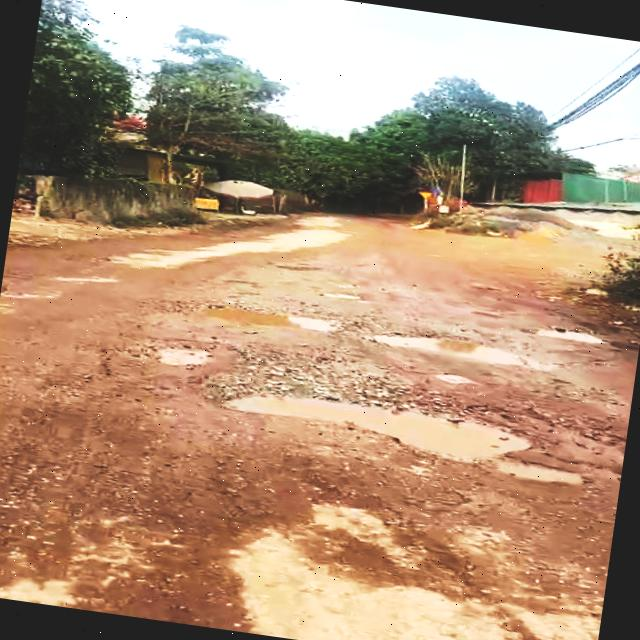pothole: (202, 369, 628, 494), (84, 328, 254, 405), (359, 322, 564, 379), (182, 294, 357, 342)
